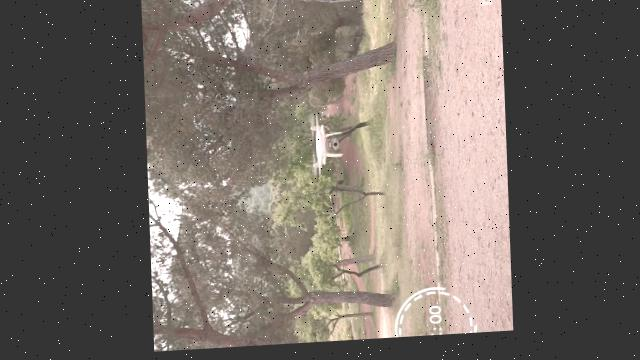drone: (304, 113, 341, 183)
